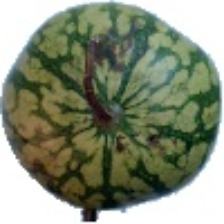watermelon: (21, 54, 205, 202)
